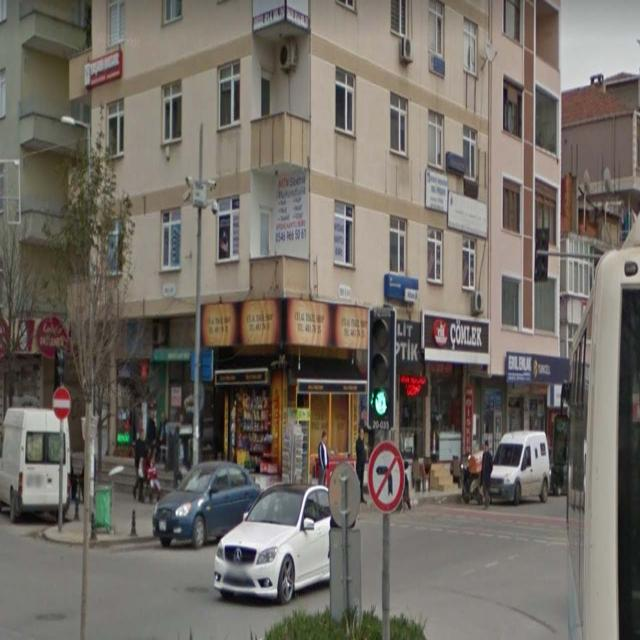soladonulmez: (368, 441, 406, 512)
yesil: (366, 307, 396, 427)
